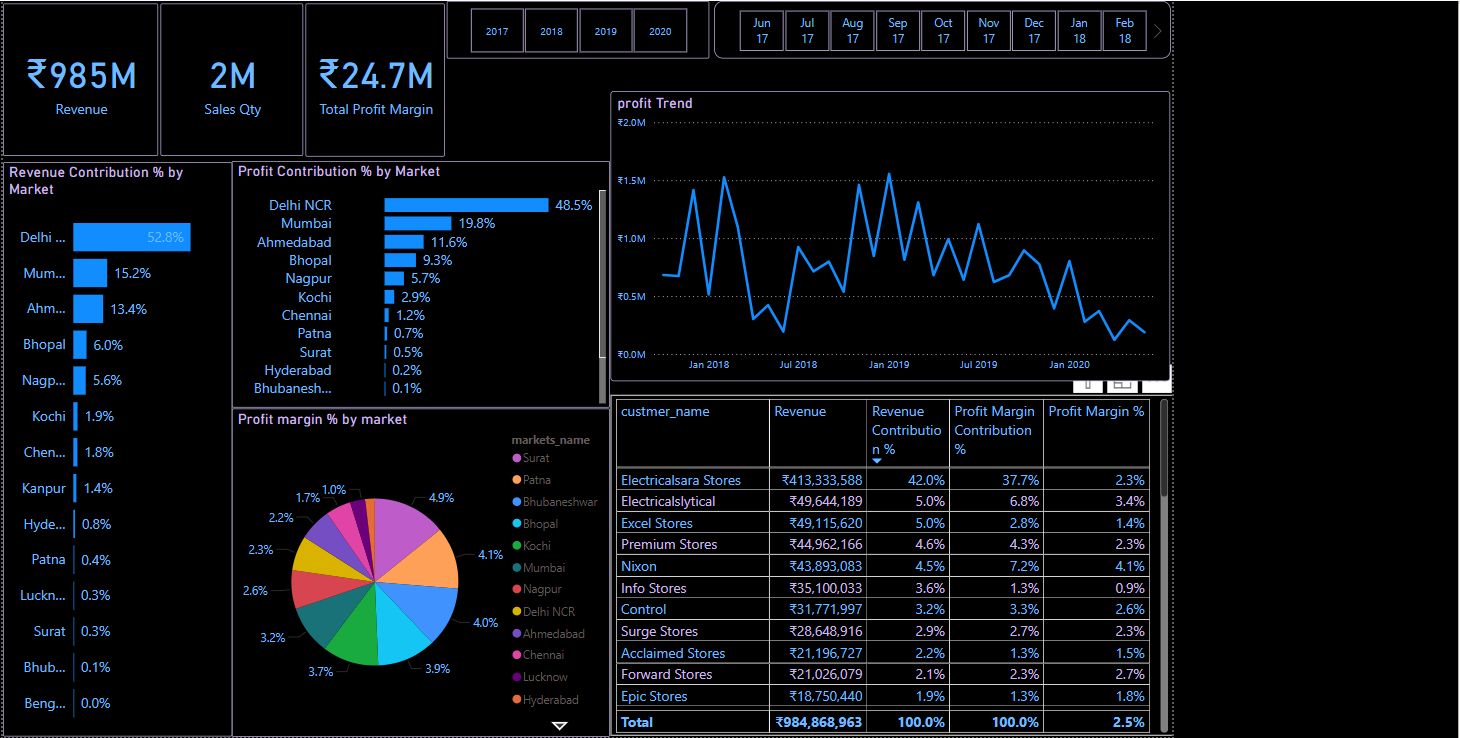

The dashboard page shown, as its layout file describes it:
{"tool":"powerbi","page":{"name":"Profit Analysis","canvas":[1350,850],"ordinal":1},"visuals":[{"type":"card","fields":{"Values":["BaseMeasures (2).Revenue"]},"box":[0,3,179,176.1],"z":0},{"type":"card","fields":{"Values":["BaseMeasures (2).Sales Qty"]},"box":[182,3,164.6,176.1],"z":1000},{"type":"pieChart","title":"Profit margin % by market","fields":{"Category":["sales markets.markets_name"],"Y":["BaseMeasures (2).Profit Margin %"]},"box":[264.8,470.4,437.1,379.2],"z":2000},{"type":"barChart","title":"Profit Contribution % by Market","fields":{"Y":["BaseMeasures (2).Profit Margin Contribution %"],"Category":["sales markets.markets_name"]},"box":[264.8,185.2,437.1,285.1],"z":3000},{"type":"slicer","fields":{"Values":["sales date.year"]},"box":[512,0,303,66.4],"z":4000},{"type":"slicer","fields":{"Values":["sales date.cy_date"]},"box":[821,0,527,66.5],"z":5000},{"type":"tableEx","title":"Top 5 Customers","fields":{"Values":["sales customers.custmer_name","BaseMeasures (2).Revenue","BaseMeasures (2).Revenue Contribution %","BaseMeasures (2).Profit Margin Contribution %","BaseMeasures (2).Profit Margin %"]},"box":[701.9,454.2,649,395.4],"z":6000},{"type":"lineChart","title":"profit Trend","fields":{"Category":["sales date.cy_date"],"Y":["BaseMeasures (2).Total Profit Margin"]},"box":[701.6,103.9,646.7,334.9],"z":7000},{"type":"card","fields":{"Values":["BaseMeasures (2).Total Profit Margin"]},"box":[349.9,3,161,176.5],"z":8000},{"type":"barChart","title":"Revenue Contribution % by Market","fields":{"Y":["BaseMeasures (2).Revenue Contribution %"],"Category":["sales markets.markets_name"]},"box":[0,186.7,264.8,662.8],"z":9000}]}

Visuals, with their boxes on the page's 1350x850 design canvas (x1, y1, x2, y2). These are canvas units, not pixel positions in the 1460x738 screenshot, which may show the page scaled, cropped or inside an application window:
card - BaseMeasures (2).Revenue: (0,3,179,179)
card - BaseMeasures (2).Sales Qty: (182,3,347,179)
"Profit margin % by market" pieChart: (265,470,702,850)
"Profit Contribution % by Market" barChart: (265,185,702,470)
slicer - sales date.year: (512,0,815,66)
slicer - sales date.cy_date: (821,0,1348,66)
"Top 5 Customers" tableEx: (702,454,1351,850)
"profit Trend" lineChart: (702,104,1348,439)
card - BaseMeasures (2).Total Profit Margin: (350,3,511,180)
"Revenue Contribution % by Market" barChart: (0,187,265,850)
